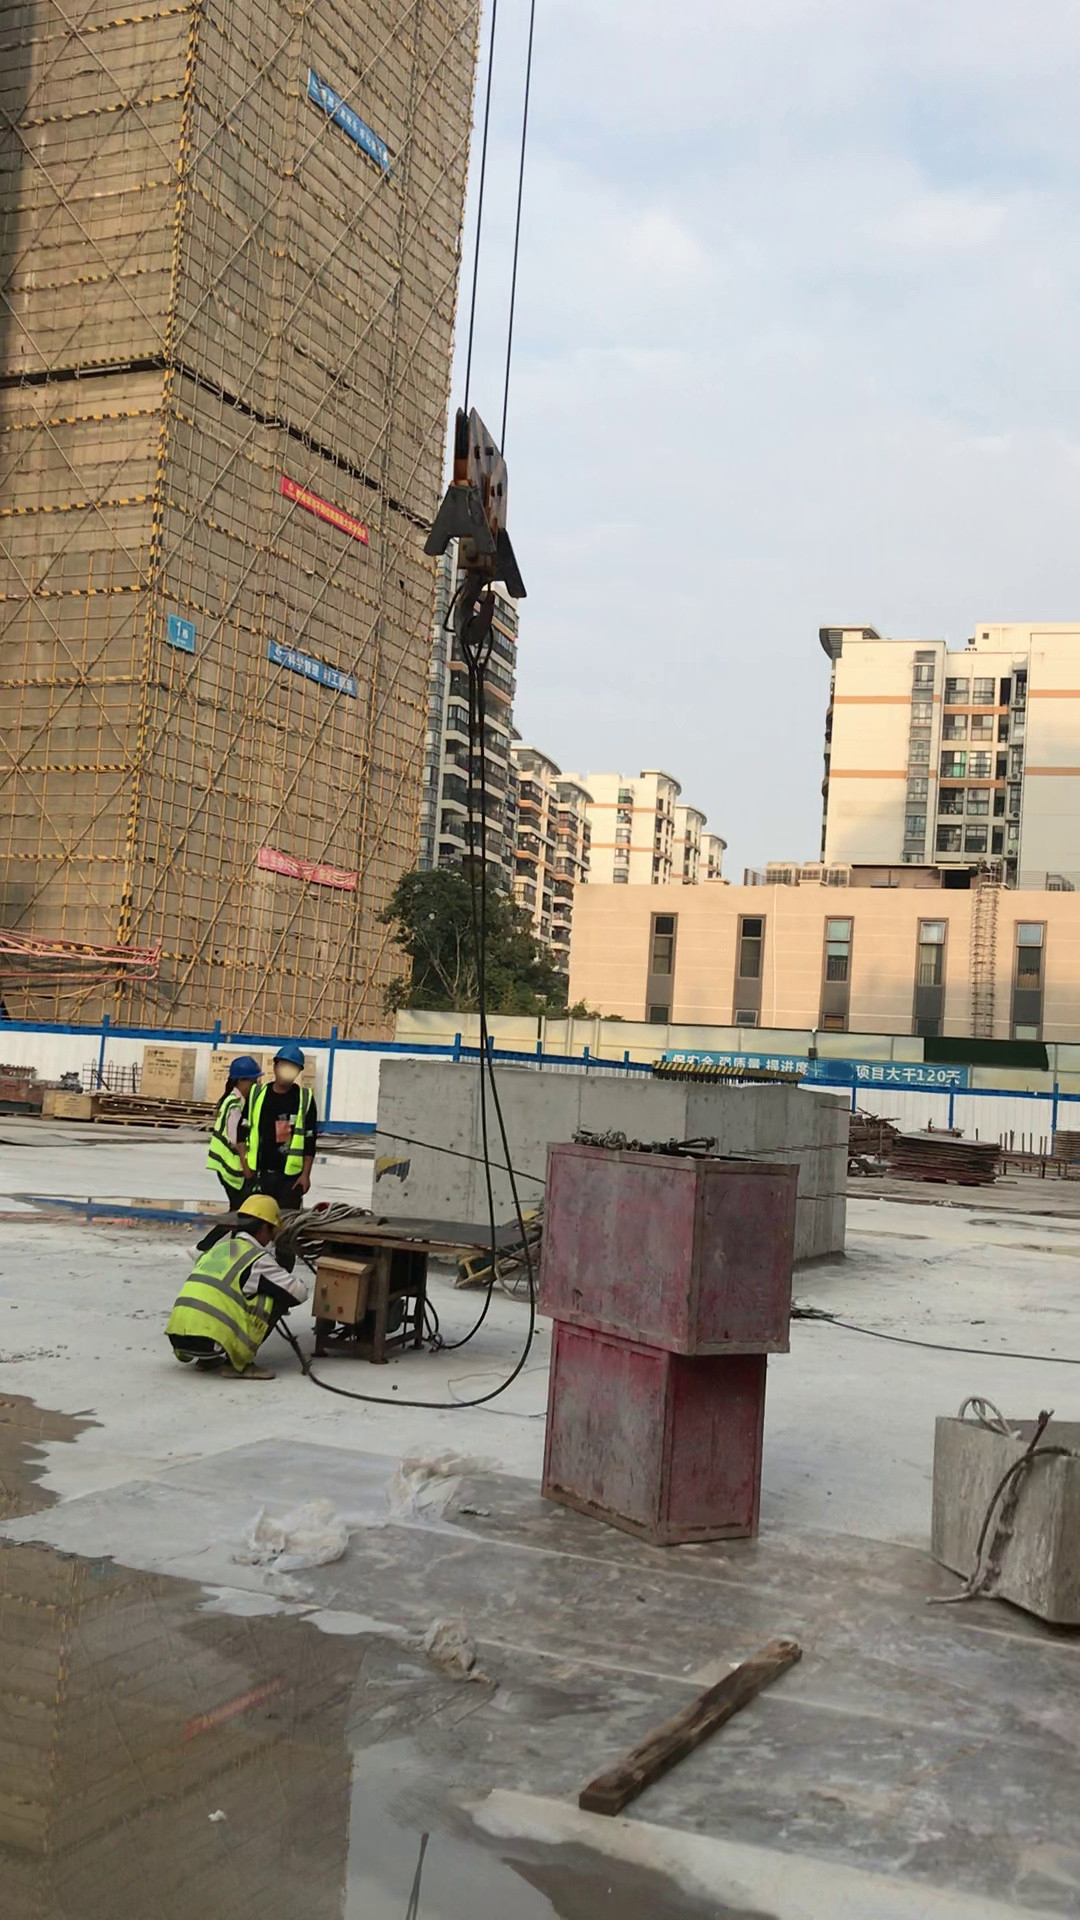cutter: (247, 1190, 545, 1382)
helmet: (238, 1192, 280, 1224), (227, 1054, 261, 1079), (272, 1041, 305, 1066)
hook: (423, 402, 532, 621)
person: (163, 1192, 310, 1389), (196, 1054, 266, 1245), (254, 1037, 320, 1208)
slogan: (309, 80, 397, 172), (280, 471, 370, 546), (266, 640, 363, 703), (666, 1050, 835, 1085), (254, 848, 358, 889)
vest: (163, 1242, 276, 1372), (254, 1083, 308, 1167), (205, 1086, 247, 1185)
